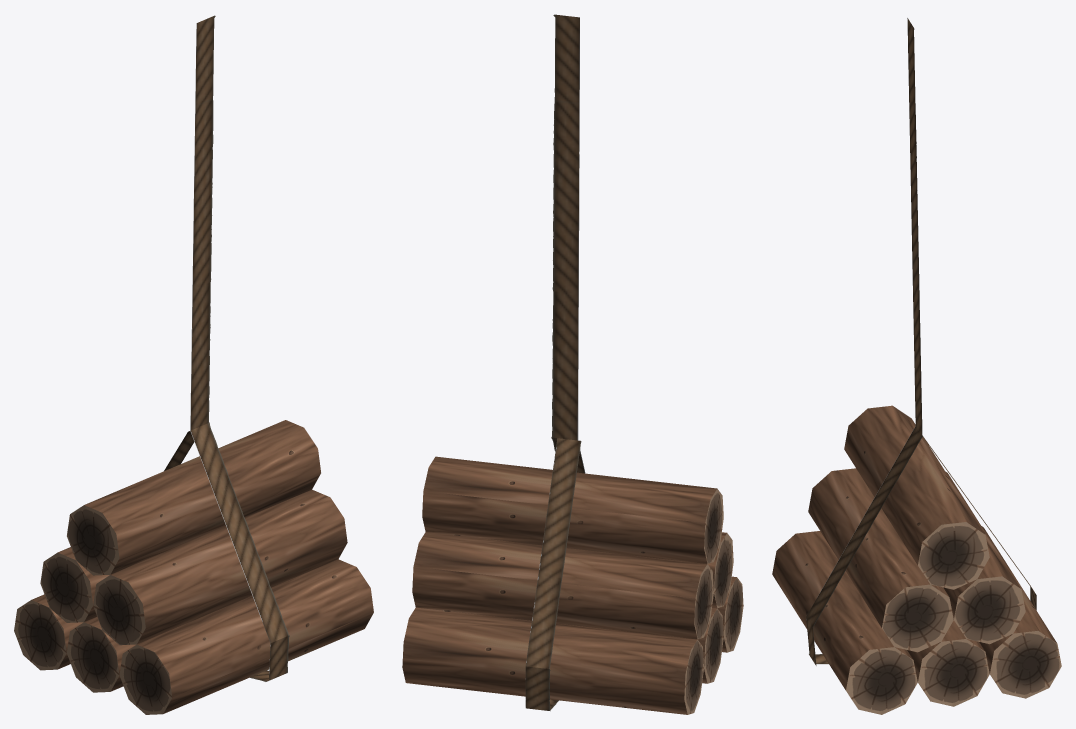
Rendered from Holzstapel_01_TL.FBX.
The picture shows the model from 3 angles, left to right: view 1: azimuth 30°, elevation 25°; view 2: azimuth 150°, elevation 25°; view 3: azimuth 270°, elevation 25°; orthographic projection. The views are drawn at different scales.
Visible parts, largest first — view 1: Holzstapel; view 2: Holzstapel; view 3: Holzstapel.
Part boxes in pixels (<box>): Holzstapel: <box>14,15,373,714</box>; Holzstapel: <box>402,14,743,714</box>; Holzstapel: <box>772,18,1061,714</box>.
Bounding box in the file's own units: 10.29 × 21.8 × 8.95.
